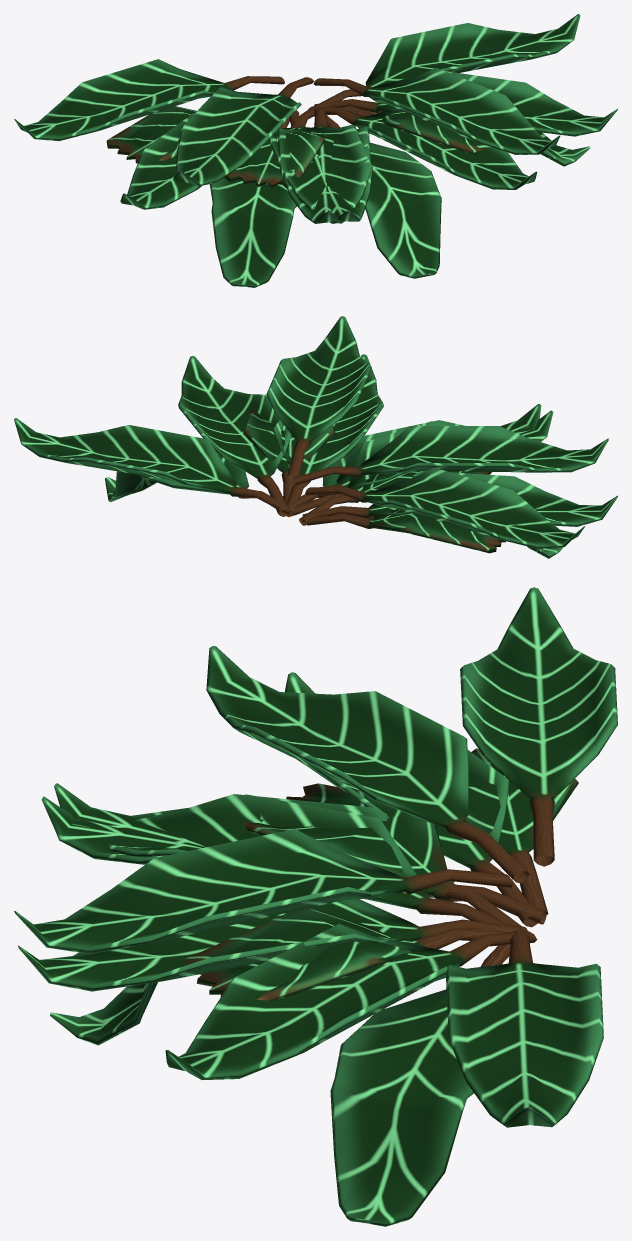
Rendered from Leaves-1-grouped-180.fbx.
3 views of the same model, one above another, from view 1: azimuth 30°, elevation 25°; view 2: azimuth 150°, elevation 25°; view 3: azimuth 270°, elevation 25° (orthographic). The views are drawn at different scales.
Visible parts, largest first — view 1: Leaf-Large-4.026; view 2: Leaf-Large-4.026; view 3: Leaf-Large-4.026.
Boxes of the visible parts, x1,y1,x2,y2 form: Leaf-Large-4.026: [14, 14, 617, 287]; Leaf-Large-4.026: [14, 316, 617, 558]; Leaf-Large-4.026: [14, 587, 617, 1226].
Size of the model in its own units: 4083 by 894 by 2236.
